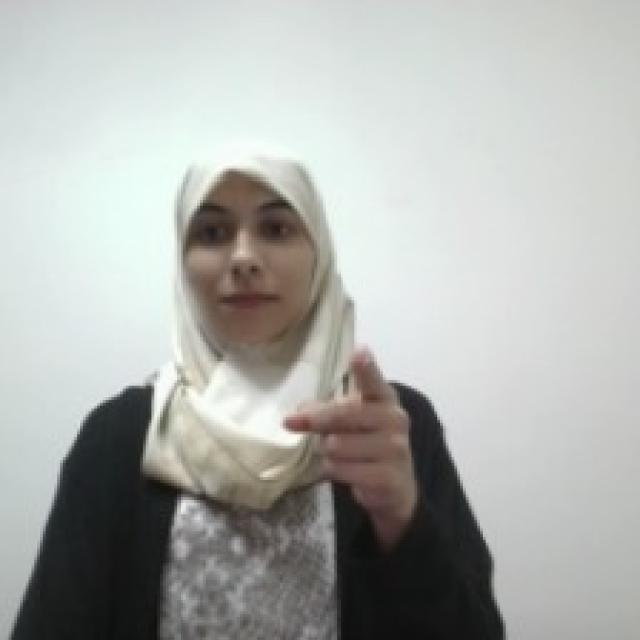you: (280, 340, 415, 505)
